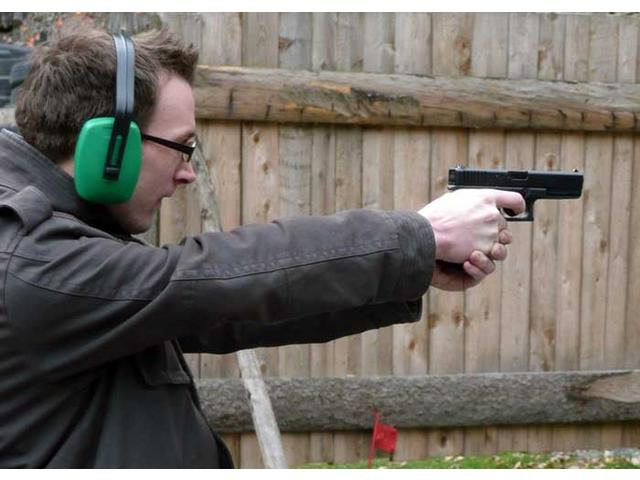pistol: (442, 163, 586, 287)
